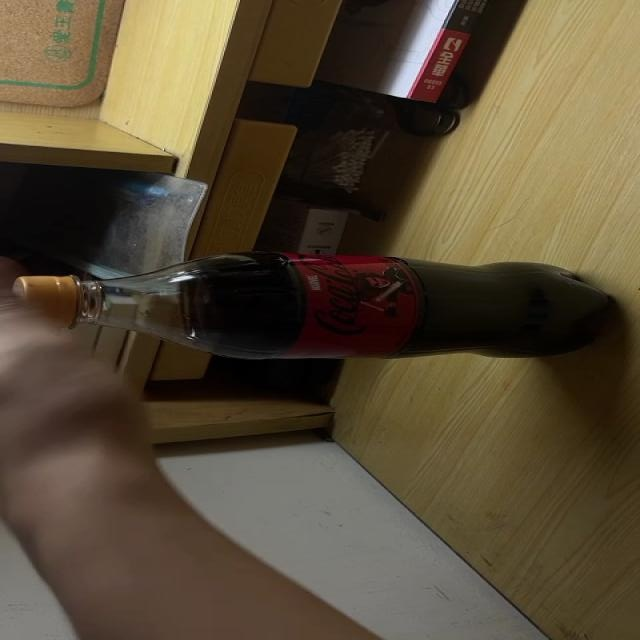Coca-Cola: (11, 254, 610, 359)
